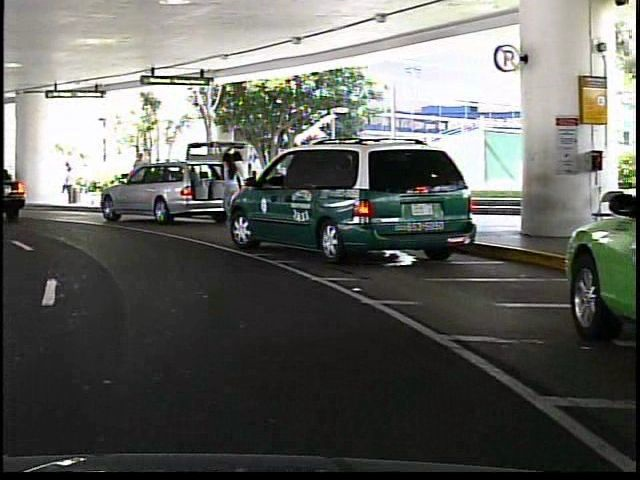person: (217, 147, 237, 205), (127, 149, 148, 203)
